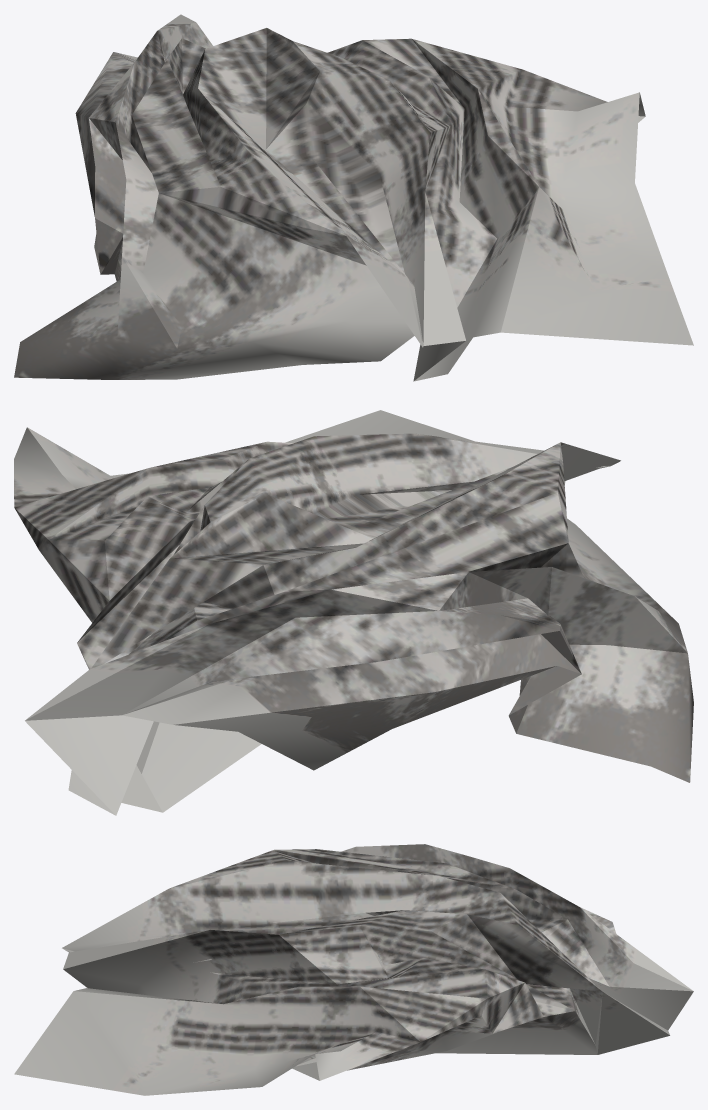
The model's file is Crumpled_Paper_low_crumpled_paper_00_mo_001.fbx.
3 views of the same model, one above another, from view 1: azimuth 30°, elevation 25°; view 2: azimuth 150°, elevation 25°; view 3: azimuth 270°, elevation 25° (orthographic). The views are drawn at different scales.
Visible parts, largest first — view 1: Crumpled_Paper_low_crumpled_paper_00.mo.001; view 2: Crumpled_Paper_low_crumpled_paper_00.mo.001; view 3: Crumpled_Paper_low_crumpled_paper_00.mo.001.
Part boxes in pixels (x1,y1,x2,y2): Crumpled_Paper_low_crumpled_paper_00.mo.001: [14, 14, 693, 381]; Crumpled_Paper_low_crumpled_paper_00.mo.001: [14, 410, 693, 815]; Crumpled_Paper_low_crumpled_paper_00.mo.001: [14, 844, 693, 1095].
Size of the model in its own units: 15.63 by 5.03 by 18.22.
